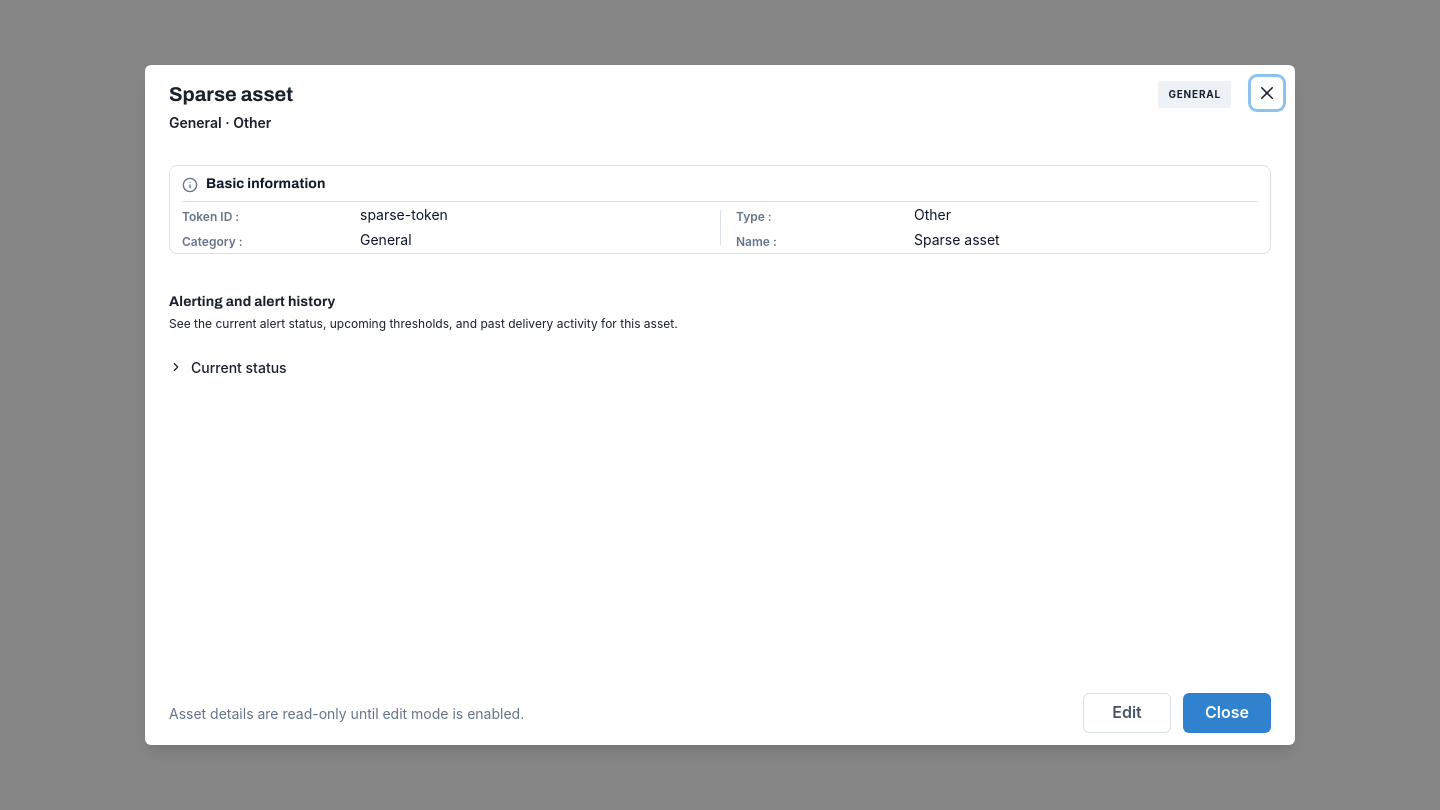
Scenario: TokenDetailModal › omits unavailable rows and sections in read mode without hiding edit fields
Expected: the text "General details" is not shown
Expected: the text "Section" is not shown
Click the button "Edit" at (1127, 713), box 1083,693 -> 1171,733
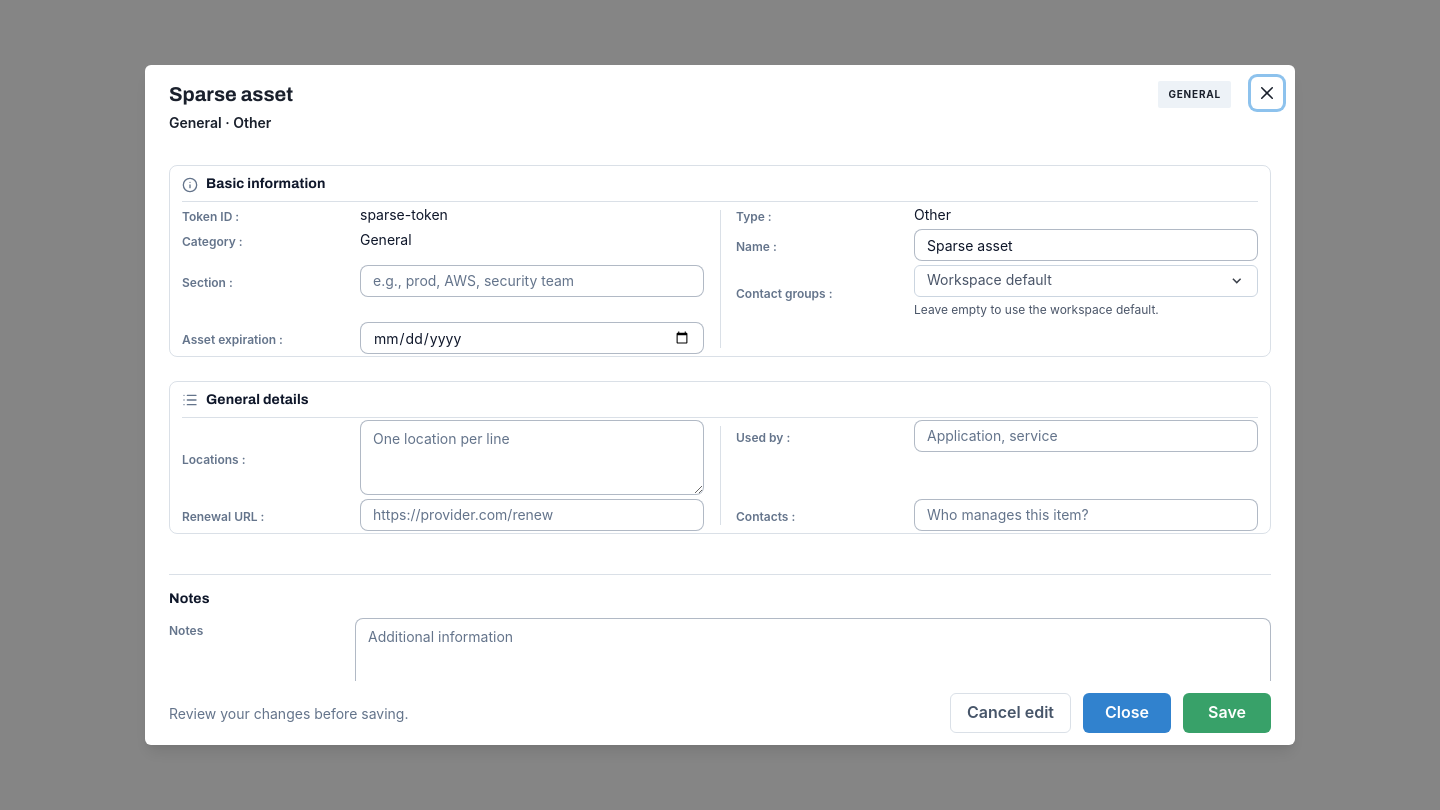
Expected: the heading "General details" is shown, 206,392 -> 309,409
Expected: the text "Section :" is shown, 182,275 -> 233,290
Expected: the text "Contact groups :" is shown, 736,286 -> 832,301
